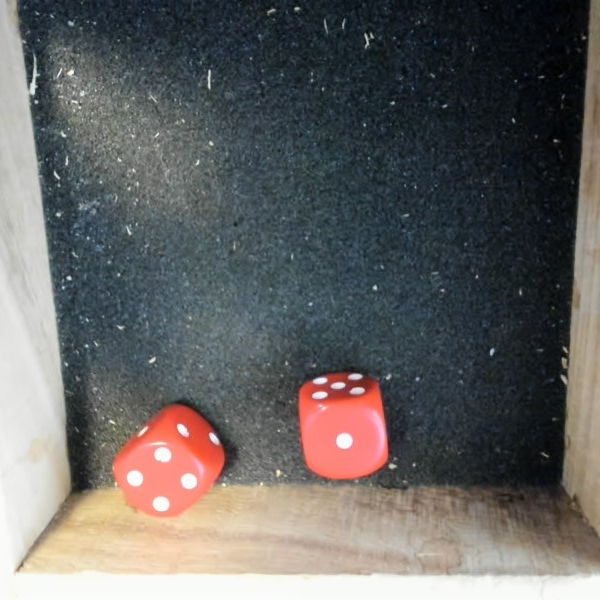red_die_pip1: (293, 359, 392, 488)
red_die_pip4: (97, 395, 236, 533)
